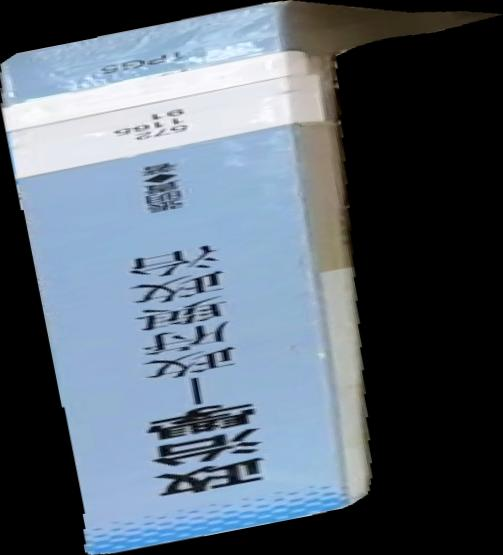reverse: (1, 1, 503, 555)
